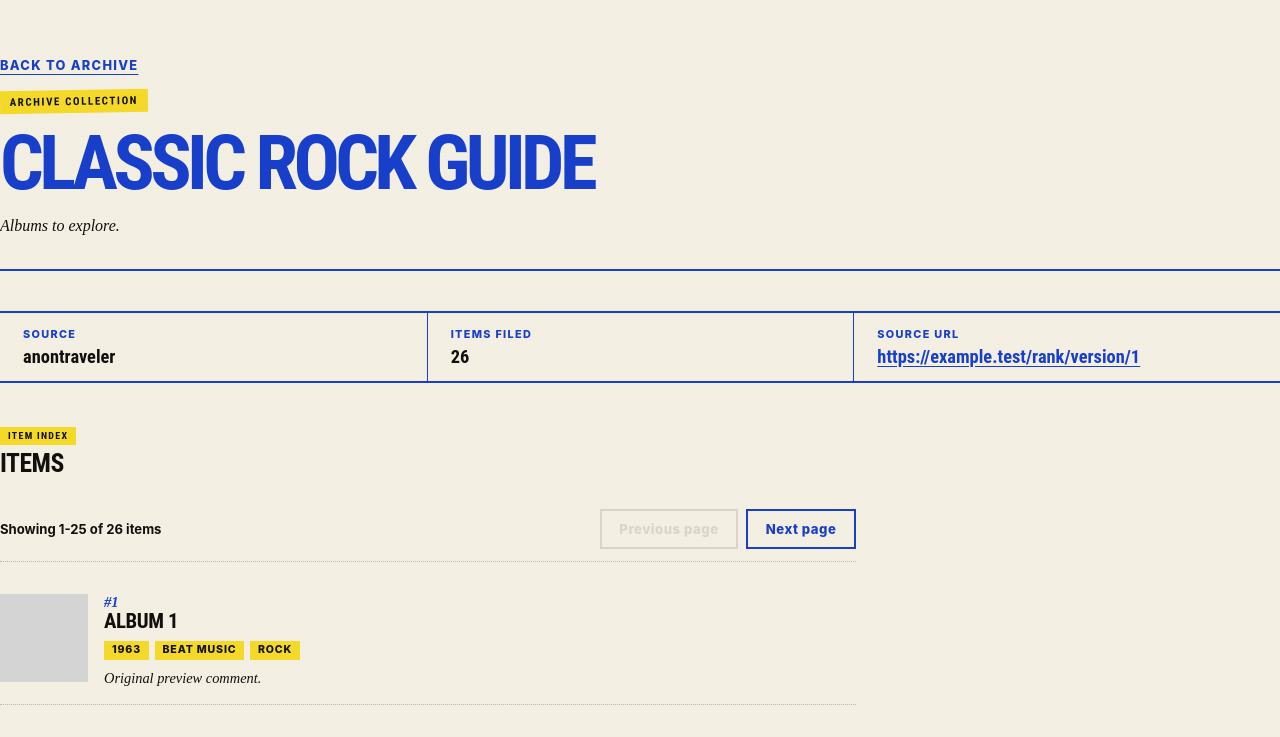
Scenario: ArchiveDetailPage › renders archive items with imported album metadata and paginates the index
Check: the heading "Album 1" is shown, box 104,609 -> 178,633
Check: the text "Showing 1-25 of 26 items" is shown, box 0,521 -> 162,537
Click the button "Next page". click: click(801, 529)
box: 746,509 -> 856,549
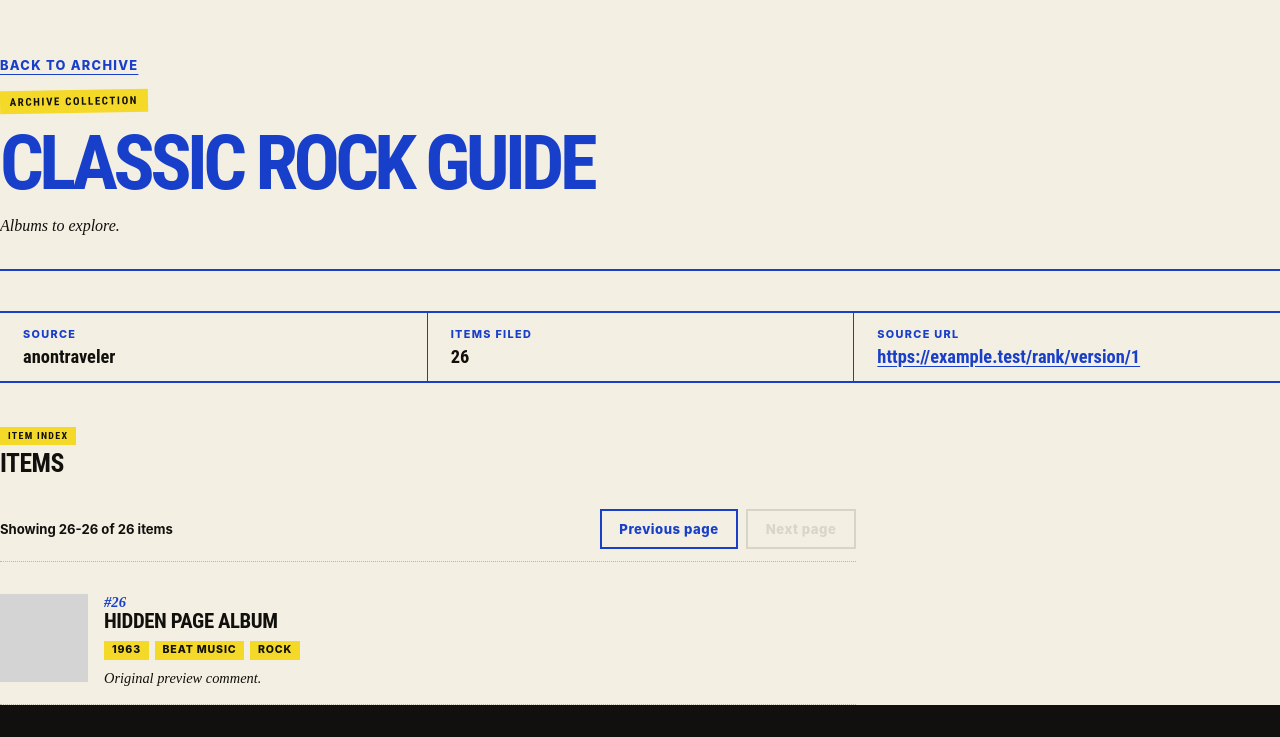
Check: the heading "Hidden page album" is shown, box 104,609 -> 278,633
Check: the text "Showing 26-26 of 26 items" is shown, box 0,521 -> 173,537
